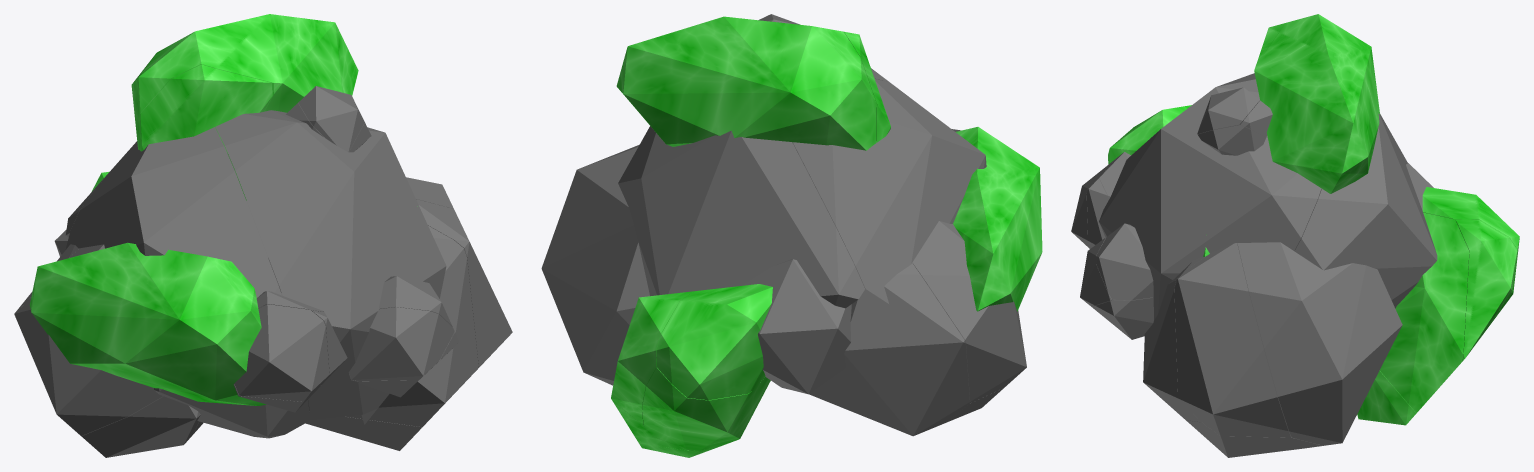
File: EarthstoneOre.fbx
The picture shows the model from 3 angles, left to right: view 1: azimuth 30°, elevation 25°; view 2: azimuth 150°, elevation 25°; view 3: azimuth 270°, elevation 25°; orthographic projection. The views are drawn at different scales.
Visible parts, largest first — view 1: StoneOre.026_cell.017, EarthstoneParticle.030_cell.012, StoneOre.026_cell.015, EarthstoneParticle.030_cell.008, StoneOre.025_cell.023, StoneOre.029_cell.023, StoneOre.024_cell.031, EarthstoneParticle.030_cell.011, StoneOre.028_cell.020, StoneOre.025_cell.020, StoneOre.024_cell.030, StoneOre.030_cell.020 (+7 smaller); view 2: StoneOre.026_cell.016, EarthstoneParticle.030_cell.008, StoneOre.026_cell.015, StoneOre.025_cell.022, StoneOre.024_cell.033, EarthstoneParticle.030_cell.012, EarthstoneParticle.030_cell.002, StoneOre.025_cell.023, EarthstoneParticle.030_cell.005, EarthstoneParticle.030_cell, StoneOre.027_cell.022, StoneOre.027_cell.021 (+3 smaller); view 3: StoneOre.026_cell.017, StoneOre.024_cell.033, EarthstoneParticle.030_cell.008, StoneOre.024_cell.030, StoneOre.026_cell.016, EarthstoneParticle.030_cell.001, EarthstoneParticle.030_cell, StoneOre.024_cell.031, StoneOre.028_cell.022, EarthstoneParticle.030_cell.002, StoneOre.024_cell.032, EarthstoneParticle.030_cell.004 (+9 smaller).
Part boxes in pixels (x1=…): StoneOre.026_cell.017: x1=215, y1=110, x2=446, y2=419; EarthstoneParticle.030_cell.012: x1=29, y1=242, x2=266, y2=405; StoneOre.026_cell.015: x1=65, y1=127, x2=310, y2=438; EarthstoneParticle.030_cell.008: x1=131, y1=14, x2=358, y2=200; StoneOre.025_cell.023: x1=15, y1=244, x2=162, y2=435; StoneOre.029_cell.023: x1=234, y1=304, x2=329, y2=401; StoneOre.024_cell.031: x1=268, y1=225, x2=478, y2=427; EarthstoneParticle.030_cell.011: x1=140, y1=64, x2=272, y2=166; StoneOre.028_cell.020: x1=348, y1=307, x2=454, y2=381; StoneOre.025_cell.020: x1=81, y1=396, x2=200, y2=457; StoneOre.024_cell.030: x1=416, y1=199, x2=512, y2=390; StoneOre.030_cell.020: x1=298, y1=86, x2=364, y2=152; StoneOre.026_cell.016: x1=618, y1=130, x2=864, y2=308; EarthstoneParticle.030_cell.008: x1=616, y1=16, x2=876, y2=150; StoneOre.026_cell.015: x1=792, y1=79, x2=986, y2=303; StoneOre.025_cell.022: x1=809, y1=263, x2=969, y2=436; StoneOre.024_cell.033: x1=541, y1=145, x2=649, y2=383; EarthstoneParticle.030_cell.012: x1=953, y1=127, x2=1042, y2=311; EarthstoneParticle.030_cell.002: x1=656, y1=284, x2=772, y2=400; StoneOre.025_cell.023: x1=912, y1=221, x2=1026, y2=403; EarthstoneParticle.030_cell.005: x1=642, y1=367, x2=767, y2=451; EarthstoneParticle.030_cell: x1=611, y1=291, x2=693, y2=424; StoneOre.027_cell.022: x1=758, y1=330, x2=850, y2=394; StoneOre.027_cell.021: x1=758, y1=259, x2=851, y2=337; StoneOre.026_cell.017: x1=1099, y1=76, x2=1321, y2=319; StoneOre.024_cell.033: x1=1237, y1=242, x2=1402, y2=445; EarthstoneParticle.030_cell.008: x1=1254, y1=14, x2=1379, y2=193; StoneOre.024_cell.030: x1=1174, y1=243, x2=1290, y2=437; StoneOre.026_cell.016: x1=1294, y1=113, x2=1437, y2=308; EarthstoneParticle.030_cell.001: x1=1379, y1=212, x2=1469, y2=412; EarthstoneParticle.030_cell: x1=1455, y1=219, x2=1517, y2=361; StoneOre.024_cell.031: x1=1143, y1=256, x2=1205, y2=422; StoneOre.028_cell.022: x1=1096, y1=223, x2=1153, y2=300; EarthstoneParticle.030_cell.002: x1=1422, y1=187, x2=1519, y2=268; StoneOre.024_cell.032: x1=1186, y1=420, x2=1328, y2=457; EarthstoneParticle.030_cell.004: x1=1357, y1=370, x2=1416, y2=425.
Size of the model in its own units: 277 by 255 by 275.
